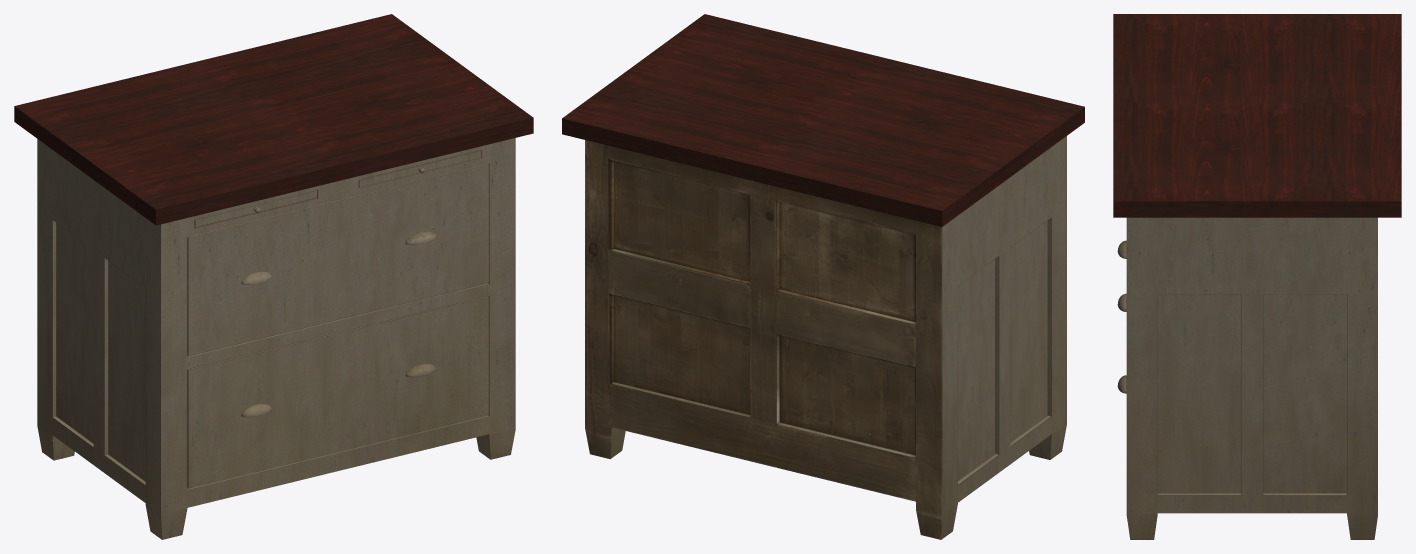
The model's file is example152.glb.
3 renders of one model, left to right at view 1: azimuth 30°, elevation 25°; view 2: azimuth 150°, elevation 25°; view 3: azimuth 270°, elevation 25°, orthographic.
Parts seen in each view (by area): view 1: Buffer Layer (×2); view 2: Buffer Layer (×3); view 3: Buffer Layer (×2).
Boxes of the visible parts, x1,y1,x2,y2 form: Buffer Layer (×2): (14, 14, 533, 539); Buffer Layer (×3): (562, 14, 1084, 539); Buffer Layer (×2): (1113, 14, 1401, 539).
Bounding box in the file's own units: 1.02 × 0.8772 × 0.663.
3 materials, 3 textured.
